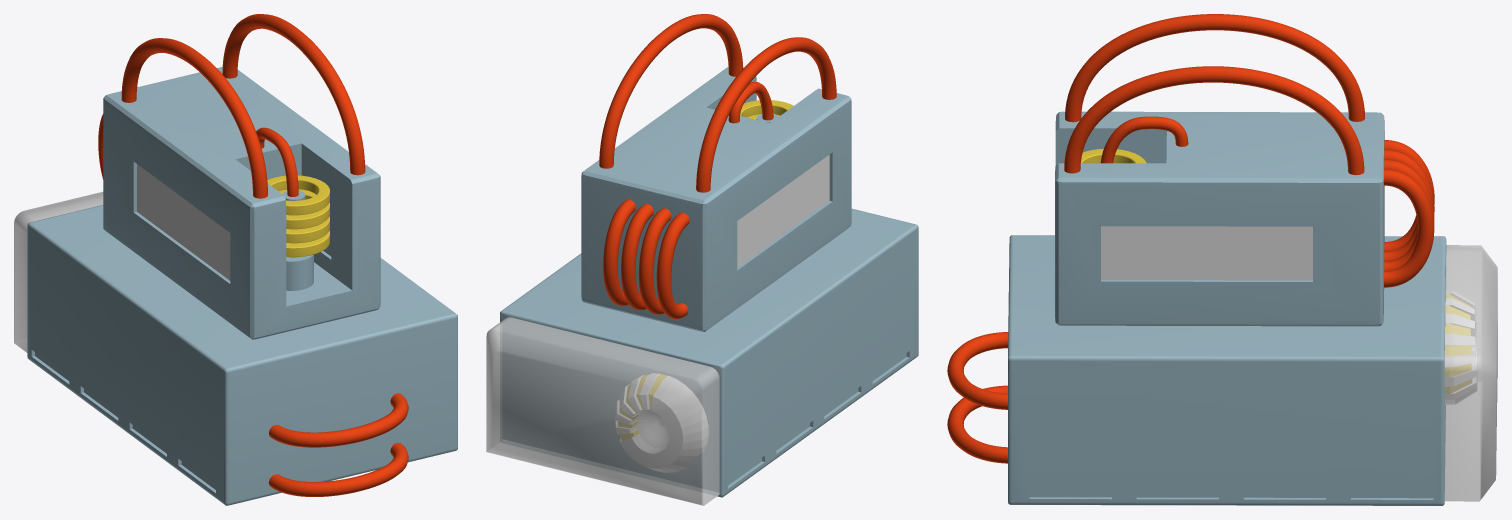
The model's file is tinyMachine.glb.
The picture shows the model from 3 angles, left to right: view 1: azimuth 30°, elevation 25°; view 2: azimuth 150°, elevation 25°; view 3: azimuth 270°, elevation 25°; orthographic projection. The views are drawn at different scales.
Visible parts, largest first — view 1: Cube.001, Cube, Curve.002, Cylinder, Curve.003, Curve.004, Curve.001; view 2: Cube.001, Cube, Curve.002, Cylinder.001, Curve, Curve.001, Cylinder; view 3: Cube.001, Cube, Curve.002, Curve, Cylinder.001, Curve.003, Curve.004, Curve.001, Cylinder.
Boxes of the visible parts, <box> form: Cube.001: <box>14,191,457,505</box>; Cube: <box>103,67,380,339</box>; Curve.002: <box>121,14,365,198</box>; Cylinder: <box>267,175,329,257</box>; Curve.003: <box>269,393,408,447</box>; Curve.004: <box>269,442,408,496</box>; Curve.001: <box>256,127,298,196</box>; Cube.001: <box>486,208,918,505</box>; Cube: <box>581,66,851,331</box>; Curve.002: <box>599,14,836,192</box>; Cylinder.001: <box>615,373,708,472</box>; Curve: <box>603,199,689,318</box>; Curve.001: <box>728,82,773,123</box>; Cylinder: <box>740,100,793,119</box>; Cube.001: <box>1008,235,1497,505</box>; Cube: <box>1055,111,1384,326</box>; Curve.002: <box>1064,14,1365,175</box>; Curve: <box>1384,140,1434,287</box>; Cylinder.001: <box>1445,290,1477,404</box>; Curve.003: <box>947,332,1008,409</box>; Curve.004: <box>947,385,1007,463</box>; Curve.001: <box>1100,116,1188,163</box>; Cylinder: <box>1081,148,1146,163</box>.
Size of what is drawn, in the model's own units: 3.58 by 5.41 by 6.72.
